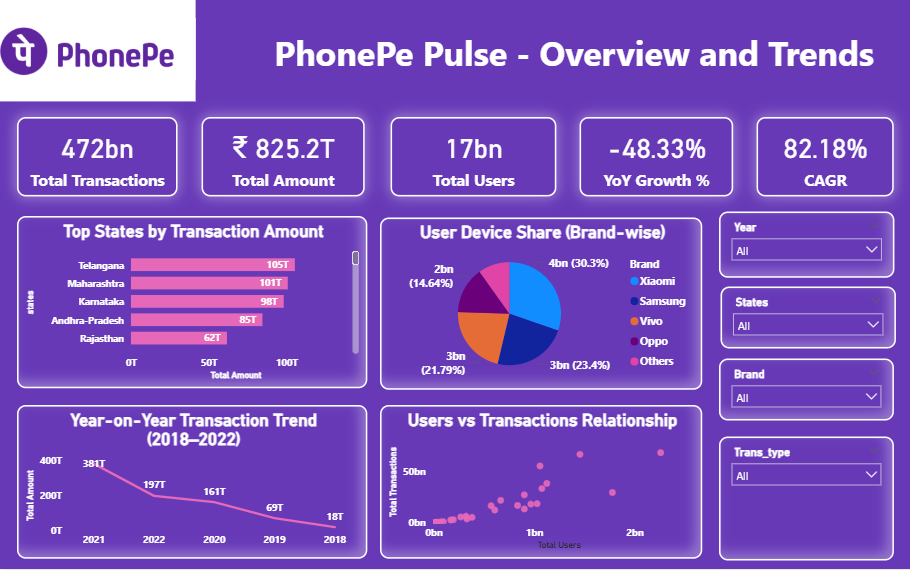

Layout of this report page (visuals, bound fields, positions):
{"tool":"powerbi","page":{"name":"PhonePe Pulse – Overview & Trends","canvas":[1150,720],"ordinal":0},"visuals":[{"type":"image","box":[0,0,247.4,131.6],"z":0},{"type":"textbox","box":[247.4,0,1031.6,131.6],"z":1000},{"type":"card","fields":{"Values":["phonepe_state_master.Total Transactions"]},"box":[22.8,150.9,201.8,100],"z":2000},{"type":"card","fields":{"Values":["phonepe_state_master.Total Amount"]},"box":[254.2,150.8,205.1,100],"z":3000},{"type":"card","fields":{"Values":["phonepe_state_master.Total Users"]},"box":[491.5,150.8,208.5,100],"z":4000},{"type":"card","fields":{"Values":["phonepe_state_master.YoY Growth %"]},"box":[730.5,150.8,193.2,100],"z":5000},{"type":"card","fields":{"Values":["phonepe_state_master.CAGR"]},"box":[952.5,150.8,172.9,100],"z":6000},{"type":"clusteredBarChart","title":"Top States by Transaction Amount","fields":{"Category":["DimState.states"],"Y":["phonepe_state_master.Total Amount"]},"box":[22,276.3,440.7,216.9],"z":7000},{"type":"lineChart","title":"Year-on-Year Transaction Trend (2018–2022)","fields":{"Category":["DimYear.Year"],"Y":["phonepe_state_master.Total Amount"]},"box":[22,513.6,440.7,193.2],"z":8000},{"type":"pieChart","title":"User Device Share (Brand-wise)","fields":{"Category":["phonepe_state_master.brand"],"Y":["phonepe_state_master.Total Users"]},"box":[480,276.7,405,216.7],"z":9000},{"type":"scatterChart","title":"Users vs Transactions Relationship","fields":{"X":["phonepe_state_master.Total Users"],"Y":["phonepe_state_master.Total Transactions"],"Category":["phonepe_state_master.states"]},"box":[480,513,405,193],"z":10000},{"type":"slicer","fields":{"Values":["DimYear.Year"]},"box":[905.1,269.5,220.3,83.1],"z":11000},{"type":"slicer","fields":{"Values":["DimState.states"]},"box":[906.8,364.4,220.3,78],"z":12000},{"type":"slicer","fields":{"Values":["phonepe_state_master.brand"]},"box":[906,454,220,78],"z":14000},{"type":"slicer","fields":{"Values":["phonepe_state_master.trans_type"]},"box":[906,552,220,156],"z":15000}]}

Visuals, with their boxes in screenshot pixels (x1, y1, x2, y2), scaled from the page's 1150x720 canvas onto the 910x570 screenshot:
image: {"left": 0, "top": 0, "right": 196, "bottom": 104}
textbox: {"left": 196, "top": 0, "right": 909, "bottom": 104}
card - phonepe_state_master.Total Transactions: {"left": 18, "top": 119, "right": 178, "bottom": 199}
card - phonepe_state_master.Total Amount: {"left": 201, "top": 119, "right": 363, "bottom": 199}
card - phonepe_state_master.Total Users: {"left": 389, "top": 119, "right": 554, "bottom": 199}
card - phonepe_state_master.YoY Growth %: {"left": 578, "top": 119, "right": 731, "bottom": 199}
card - phonepe_state_master.CAGR: {"left": 754, "top": 119, "right": 891, "bottom": 199}
"Top States by Transaction Amount" clusteredBarChart: {"left": 17, "top": 219, "right": 366, "bottom": 390}
"Year-on-Year Transaction Trend (2018–2022)" lineChart: {"left": 17, "top": 407, "right": 366, "bottom": 560}
"User Device Share (Brand-wise)" pieChart: {"left": 380, "top": 219, "right": 700, "bottom": 391}
"Users vs Transactions Relationship" scatterChart: {"left": 380, "top": 406, "right": 700, "bottom": 559}
slicer - DimYear.Year: {"left": 716, "top": 213, "right": 891, "bottom": 279}
slicer - DimState.states: {"left": 718, "top": 288, "right": 892, "bottom": 350}
slicer - phonepe_state_master.brand: {"left": 717, "top": 359, "right": 891, "bottom": 421}
slicer - phonepe_state_master.trans_type: {"left": 717, "top": 437, "right": 891, "bottom": 560}
